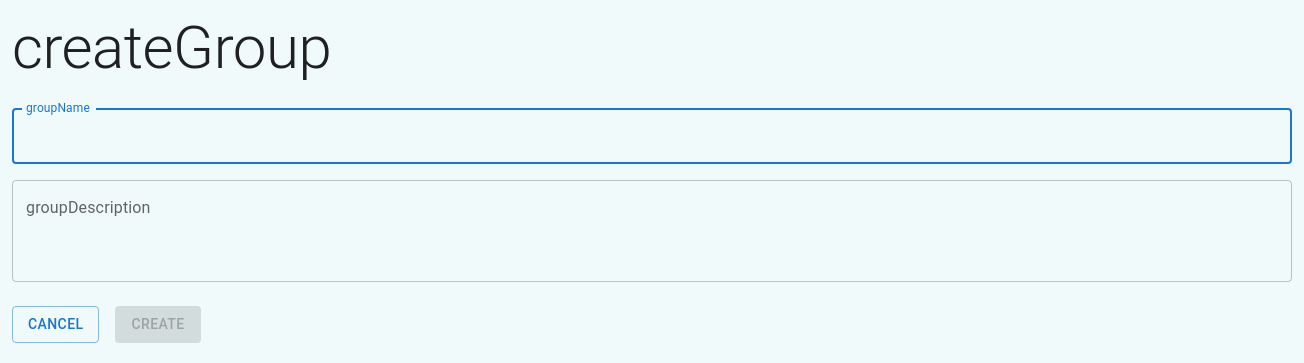
NewGroupPage › submit button is enabled with a name
Step 1. Type "Family" into the field labelled "groupName" → (652,136), box x1=12 y1=108 x2=1292 y2=164
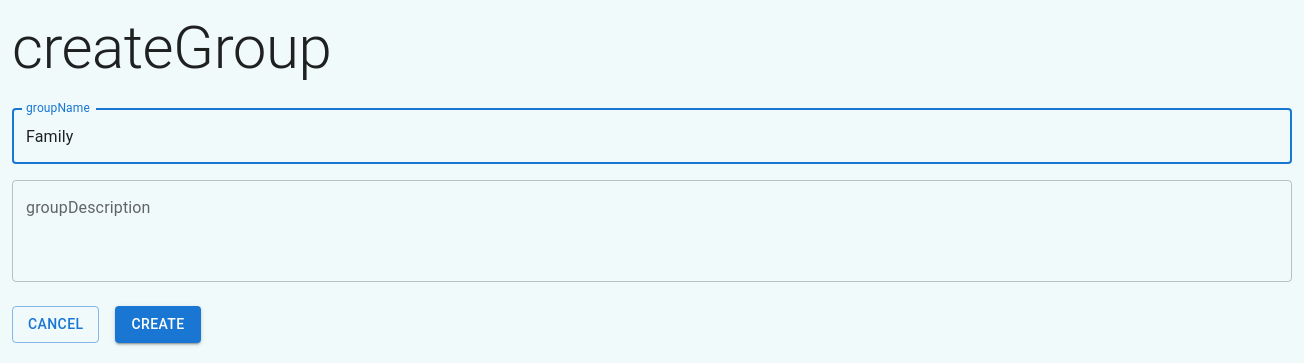
Expected: the button "create" is enabled, x1=116 y1=306 x2=201 y2=342
